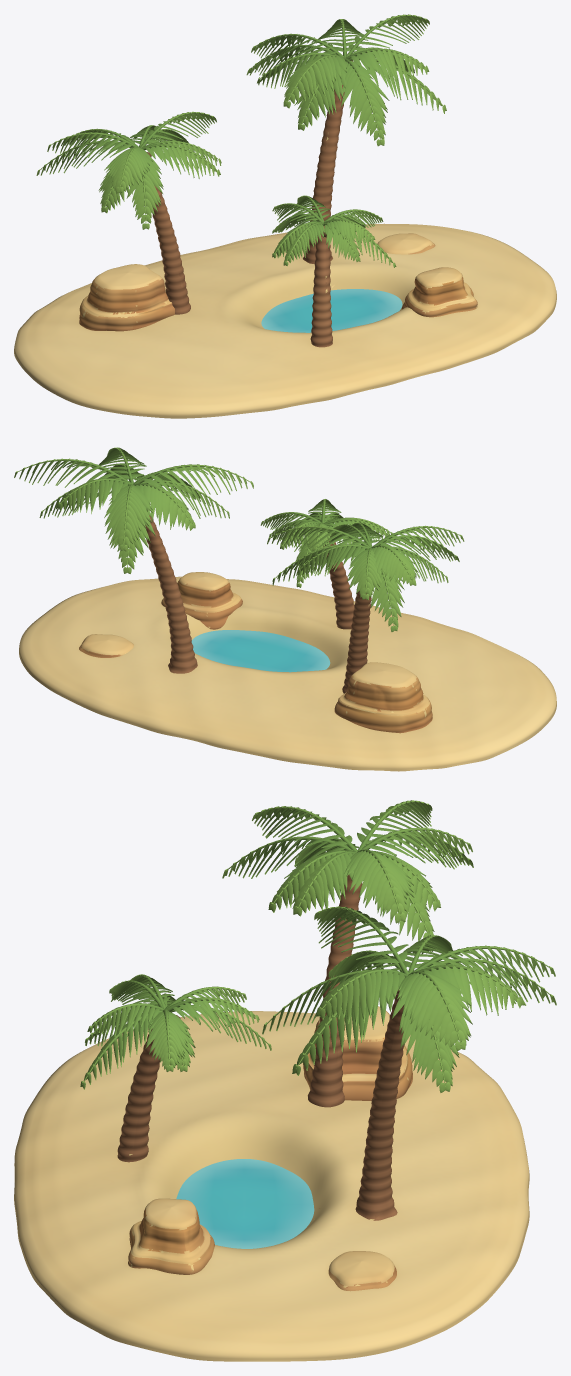
The model's file is SD_B06_Oasis_Grove.fbx.
3 renders of one model, top to bottom at view 1: azimuth 30°, elevation 25°; view 2: azimuth 150°, elevation 25°; view 3: azimuth 270°, elevation 25°, orthographic. The views are drawn at different scales.
Parts seen in each view (by area): view 1: Base_LOD0, Palm_02_LOD0, Palm_01_LOD0, Palm_03_LOD0, Rock_02_LOD0, Water, Rock_01_LOD0, Rock_03_LOD0; view 2: Base_LOD0, Palm_02_LOD0, Palm_01_LOD0, Rock_02_LOD0, Water, Palm_03_LOD0, Rock_01_LOD0, Rock_03_LOD0; view 3: Base_LOD0, Palm_02_LOD0, Palm_01_LOD0, Palm_03_LOD0, Water, Rock_01_LOD0, Rock_02_LOD0, Rock_03_LOD0.
Part boxes in pixels (bbox=[...]): Base_LOD0: bbox=[14, 223, 556, 418]; Palm_02_LOD0: bbox=[246, 14, 446, 263]; Palm_01_LOD0: bbox=[36, 111, 221, 314]; Palm_03_LOD0: bbox=[272, 195, 396, 347]; Rock_02_LOD0: bbox=[79, 264, 174, 331]; Water: bbox=[261, 289, 402, 332]; Rock_01_LOD0: bbox=[401, 267, 477, 317]; Rock_03_LOD0: bbox=[377, 233, 435, 254]; Base_LOD0: bbox=[19, 576, 556, 771]; Palm_02_LOD0: bbox=[14, 447, 253, 673]; Palm_01_LOD0: bbox=[267, 522, 464, 693]; Rock_02_LOD0: bbox=[334, 662, 432, 733]; Water: bbox=[191, 630, 330, 672]; Palm_03_LOD0: bbox=[260, 499, 397, 629]; Rock_01_LOD0: bbox=[161, 572, 242, 629]; Rock_03_LOD0: bbox=[79, 634, 133, 657]; Base_LOD0: bbox=[14, 1011, 529, 1361]; Palm_02_LOD0: bbox=[262, 906, 556, 1220]; Palm_01_LOD0: bbox=[222, 800, 473, 1107]; Palm_03_LOD0: bbox=[80, 974, 271, 1162]; Water: bbox=[176, 1159, 314, 1248]; Rock_01_LOD0: bbox=[128, 1198, 214, 1274]; Rock_02_LOD0: bbox=[303, 1006, 412, 1100]; Rock_03_LOD0: bbox=[328, 1251, 396, 1291].
Size of what is drawn, in the model's own units: 18 by 8 by 12.
